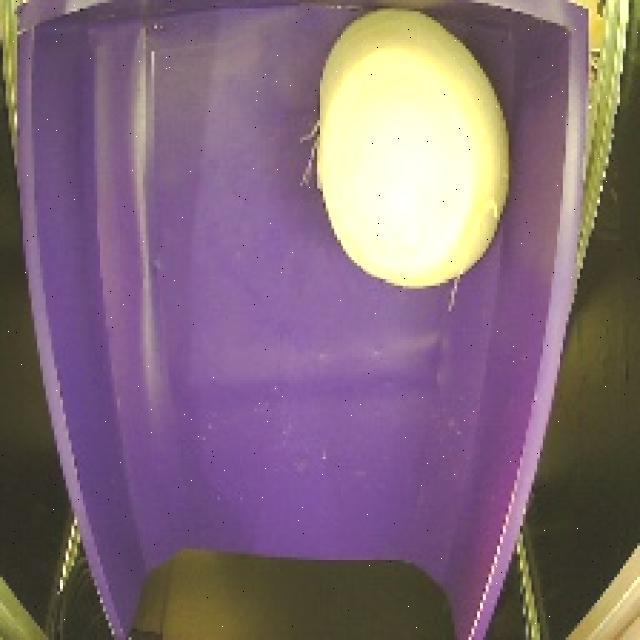white_radish: (290, 12, 522, 324)
